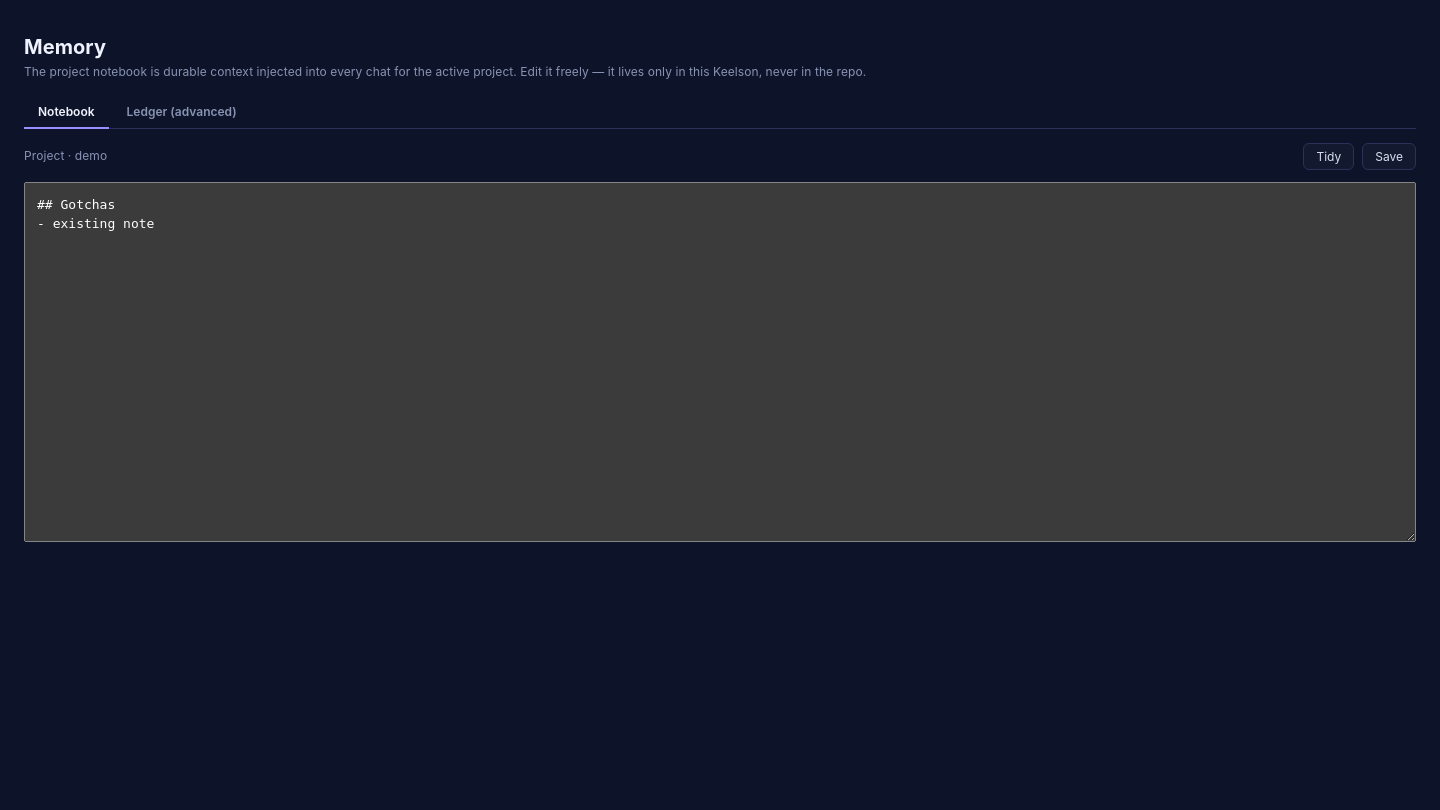
Scenario: Memory notebook panel › Tidy with nothing to archive shows an info toast and no Undo
Expected: the text box named "Project notebook" is shown, [24,182,1416,542]
Click the button "Tidy".
click(1329, 156)  # box [1303,143,1354,170]
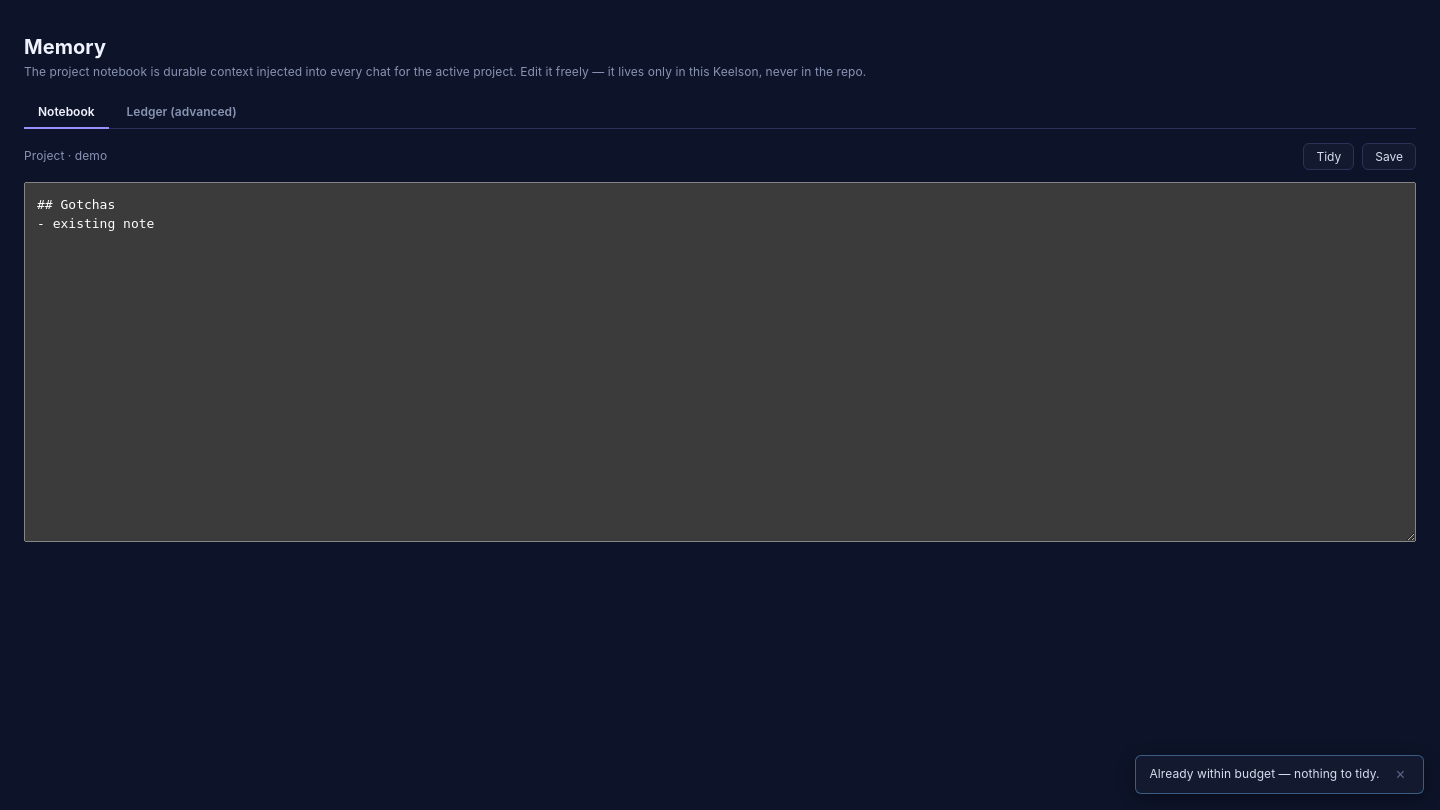
Now the text "Already within budget — nothing to tidy." is shown, box [1150,766,1380,783]
